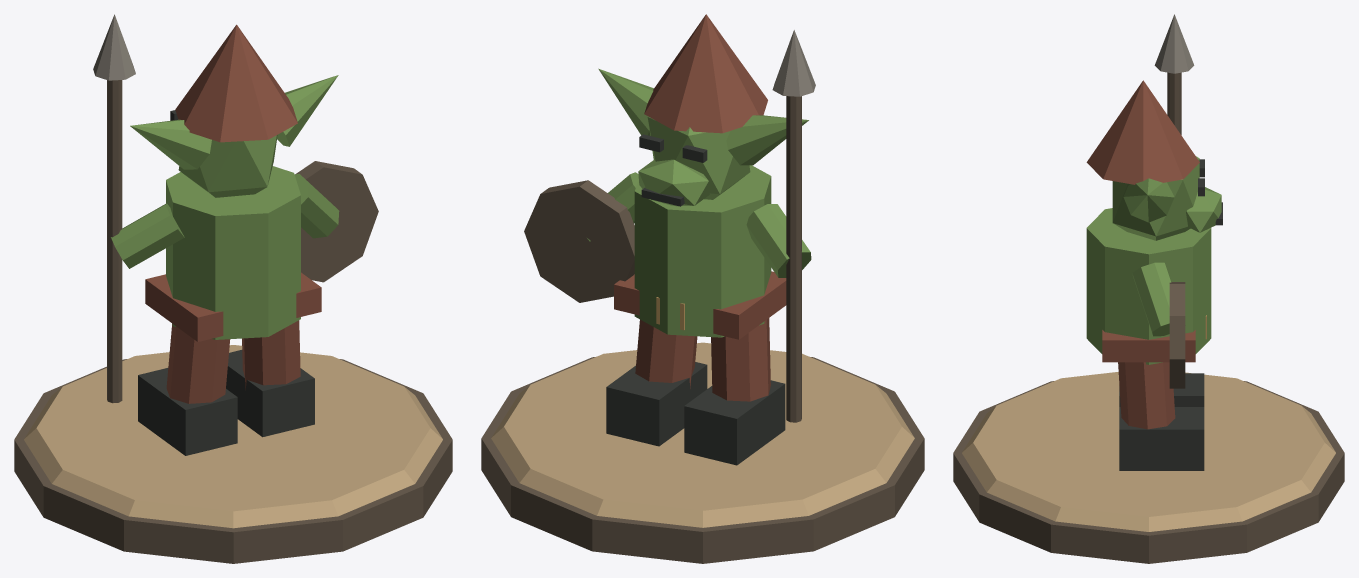
Rendered from WorldParty_Goblins.fbx.
3 views of the same model, side by side, from view 1: azimuth 30°, elevation 25°; view 2: azimuth 150°, elevation 25°; view 3: azimuth 270°, elevation 25° (orthographic). The views are drawn at different scales.
Visible parts, largest first — view 1: WorldParty_Goblins; view 2: WorldParty_Goblins; view 3: WorldParty_Goblins.
Part boxes in pixels (<box>): WorldParty_Goblins: <box>14,14,452,563</box>; WorldParty_Goblins: <box>481,14,924,563</box>; WorldParty_Goblins: <box>953,14,1344,563</box>.
Bounding box in the file's own units: 1.38 × 1.64 × 1.38.
